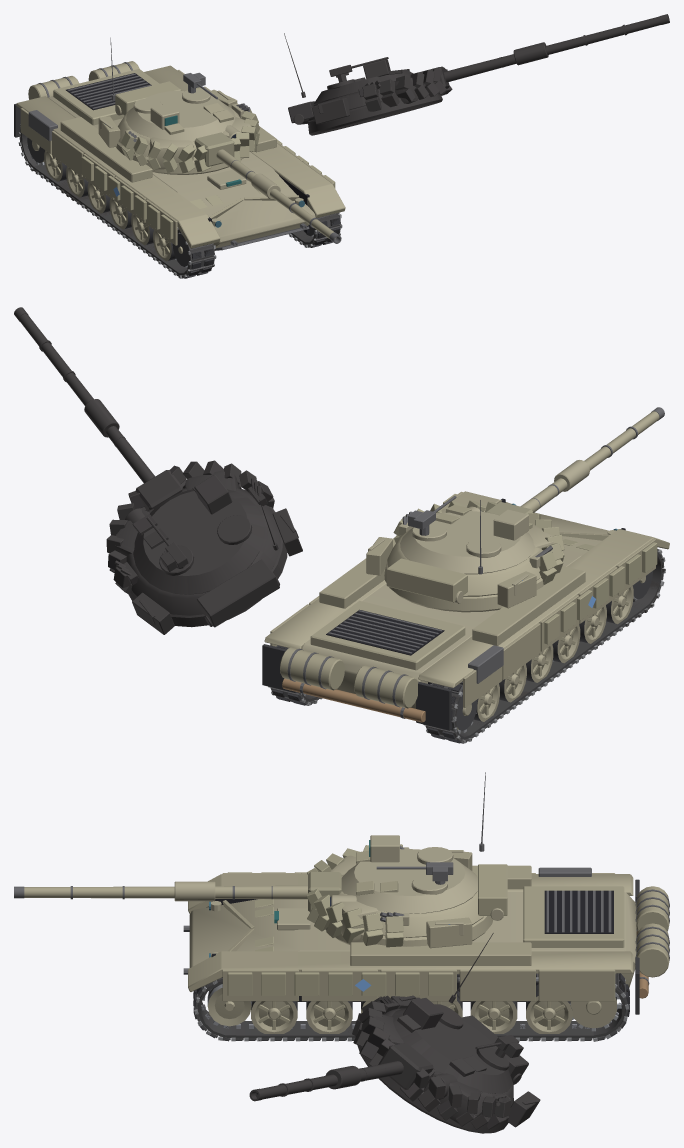
The model's file is tank__t_72ua1_t_72b.glb.
3 views of the same model, one above another, from view 1: azimuth 30°, elevation 25°; view 2: azimuth 150°, elevation 25°; view 3: azimuth 270°, elevation 25° (orthographic). The views are drawn at different scales.
Parts seen in each view (by area): view 1: Hull_Mesh, Wreck, Turret_Mesh, Track_L_Mesh, Gun_Mesh, Track_R_Mesh, Gunner_Sight_Mesh, Wheel_L0_Mesh, Wheel_L2_Mesh, Wheel_L3_Mesh, Wheel_L4_Mesh, Wheel_L1_Mesh (+1 smaller); view 2: Hull_Mesh, Wreck, Turret_Mesh, Track_L_Mesh, Gun_Mesh, Gunner_Sight_Mesh, Wheel_L3_Mesh, Wheel_L5_Mesh, Wheel_L1_Mesh, Wheel_L2_Mesh, Wheel_L4_Mesh; view 3: Hull_Mesh, Wreck, Turret_Mesh, Gun_Mesh, Track_R_Mesh, Wheel_R0_Mesh, Wheel_R4_Mesh, Wheel_R5_Mesh, Wheel_R1_Mesh, Sprocket_R_Mesh, Idler_R_Mesh, Gunner_Sight_Mesh (+1 smaller).
Boxes of the visible parts, x1,y1,x2,y2 form: Hull_Mesh: [14, 61, 345, 250]; Wreck: [18, 14, 669, 278]; Turret_Mesh: [98, 81, 259, 174]; Track_L_Mesh: [18, 124, 216, 278]; Gun_Mesh: [194, 132, 341, 243]; Track_R_Mesh: [289, 213, 342, 247]; Gunner_Sight_Mesh: [150, 103, 179, 129]; Wheel_L0_Mesh: [44, 150, 66, 181]; Wheel_L2_Mesh: [87, 182, 110, 213]; Wheel_L3_Mesh: [109, 198, 131, 229]; Wheel_L4_Mesh: [131, 214, 153, 245]; Wheel_L1_Mesh: [66, 166, 88, 197]; Hull_Mesh: [262, 491, 669, 730]; Wreck: [14, 307, 665, 743]; Turret_Mesh: [366, 500, 564, 612]; Track_L_Mesh: [423, 549, 665, 743]; Gun_Mesh: [486, 407, 664, 515]; Gunner_Sight_Mesh: [493, 509, 528, 540]; Wheel_L3_Mesh: [552, 625, 580, 663]; Wheel_L5_Mesh: [606, 586, 633, 624]; Wheel_L1_Mesh: [499, 664, 526, 702]; Wheel_L2_Mesh: [526, 644, 553, 682]; Wheel_L4_Mesh: [579, 605, 606, 643]; Hull_Mesh: [183, 865, 669, 1014]; Wreck: [194, 933, 629, 1133]; Turret_Mesh: [307, 844, 507, 948]; Gun_Mesh: [14, 872, 341, 912]; Track_R_Mesh: [193, 973, 629, 1041]; Wheel_R0_Mesh: [526, 984, 572, 1033]; Wheel_R4_Mesh: [306, 1001, 352, 1033]; Wheel_R5_Mesh: [251, 1001, 297, 1033]; Wheel_R1_Mesh: [470, 1001, 517, 1033]; Sprocket_R_Mesh: [570, 992, 620, 1031]; Idler_R_Mesh: [207, 984, 251, 1026]; Gunner_Sight_Mesh: [369, 835, 399, 862].
Size of what is drawn, in the model's own units: 11.53 by 3.38 by 10.13.
